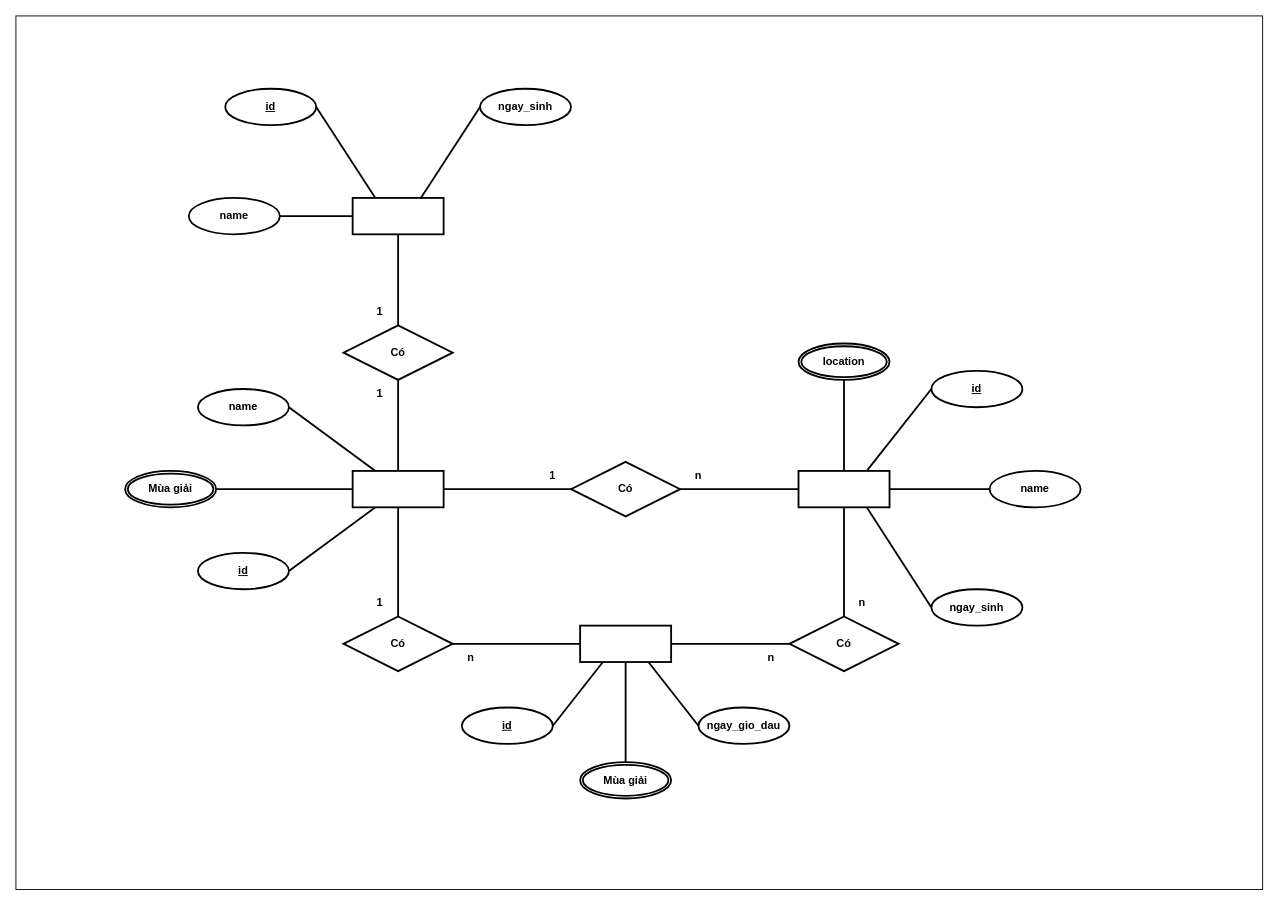
This 1279x905 diagram has some shape labels left out. The centre of each missing label's shape, as x and y in pixels:
Coach: the point at 397,216
Competition: the point at 625,643
Player: the point at 843,489
Team: the point at 397,489
